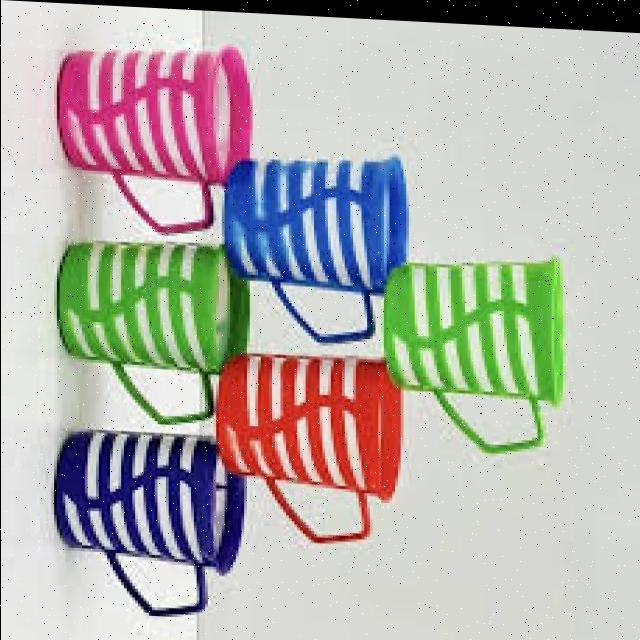cup: (40, 5, 264, 207), (45, 410, 258, 579), (214, 126, 409, 310), (381, 229, 578, 406), (50, 222, 256, 387), (218, 337, 398, 509)
